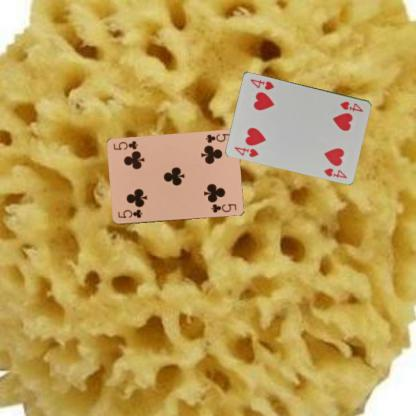4h: (232, 144, 260, 158), (338, 98, 364, 112)
5c: (203, 131, 232, 145), (116, 207, 143, 219)
